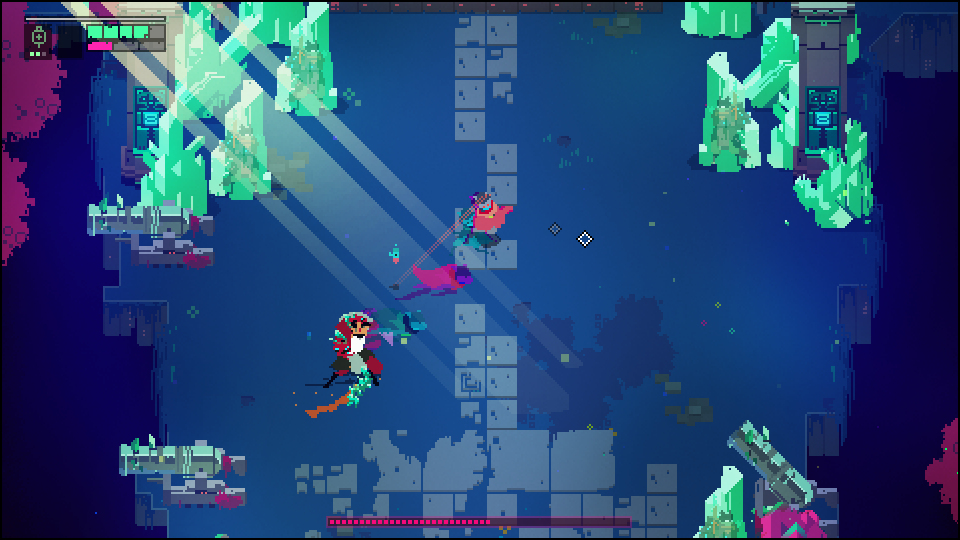hanged_man: (304, 309, 382, 414)
player: (463, 189, 512, 242)
